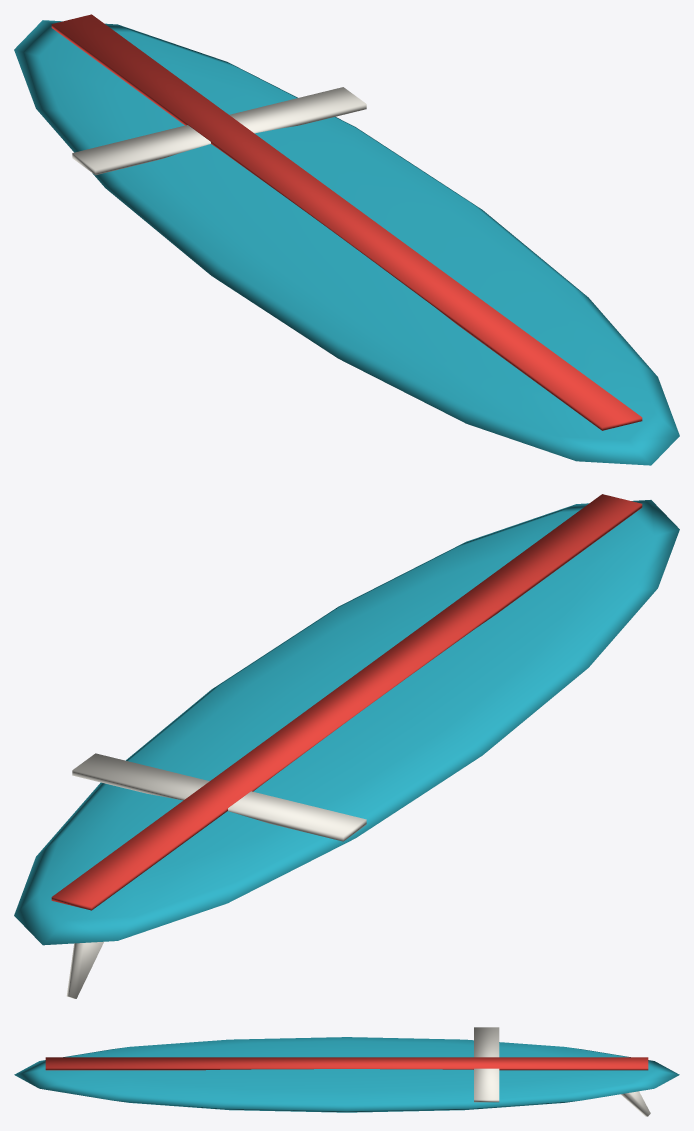
File: Prop_Surfboard_A.fbx
3 views of the same model, one above another, from view 1: azimuth 30°, elevation 25°; view 2: azimuth 150°, elevation 25°; view 3: azimuth 270°, elevation 25° (orthographic). The views are drawn at different scales.
Parts seen in each view (by area): view 1: Prop_Surfboard_A.001; view 2: Prop_Surfboard_A.001; view 3: Prop_Surfboard_A.001.
Boxes of the visible parts, left/top/right/bottom form: Prop_Surfboard_A.001: left=14, top=14, right=679, bottom=465; Prop_Surfboard_A.001: left=14, top=494, right=679, bottom=998; Prop_Surfboard_A.001: left=14, top=1027, right=679, bottom=1116.
Bounding box in the file's own units: 0.54 × 0.1878 × 2.1.
